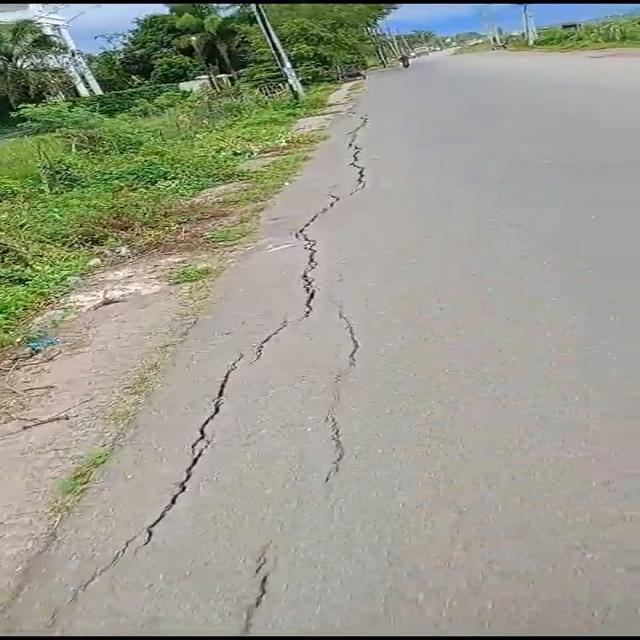Memanjang: (67, 111, 433, 611)
Pinggir: (0, 114, 313, 640)
